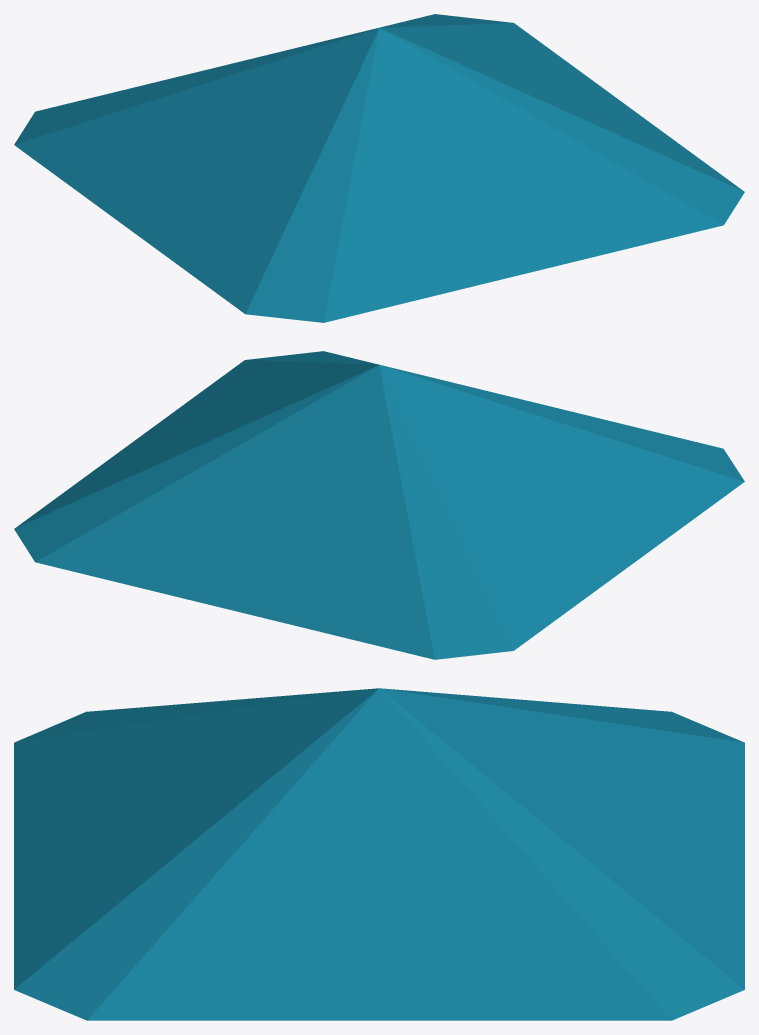
The model's file is lightening_hut_floor1.glb.
The picture shows the model from 3 angles, top to bottom: view 1: azimuth 30°, elevation 25°; view 2: azimuth 150°, elevation 25°; view 3: azimuth 270°, elevation 25°; orthographic projection. The views are drawn at different scales.
Visible parts, largest first — view 1: lightening_hut_floor1; view 2: lightening_hut_floor1; view 3: lightening_hut_floor1.
Part boxes in pixels (x1=…): lightening_hut_floor1: x1=14, y1=14, x2=744, y2=322; lightening_hut_floor1: x1=14, y1=351, x2=744, y2=659; lightening_hut_floor1: x1=14, y1=688, x2=744, y2=1020.
Size of the model in its own units: 11.05 by 2.97 by 11.05.
